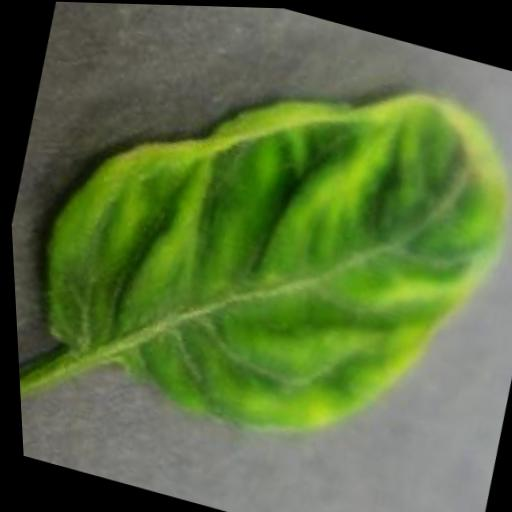Yellow Leaf Curl Virus: (0, 0, 512, 484)
